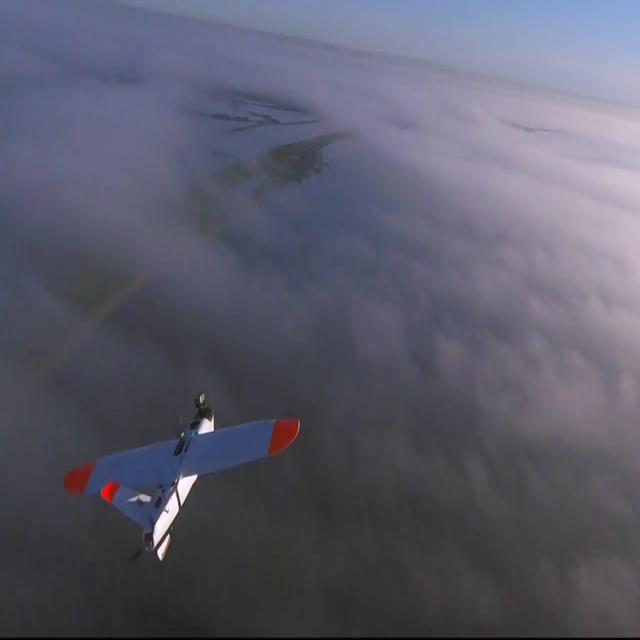iha: (65, 395, 301, 572)
